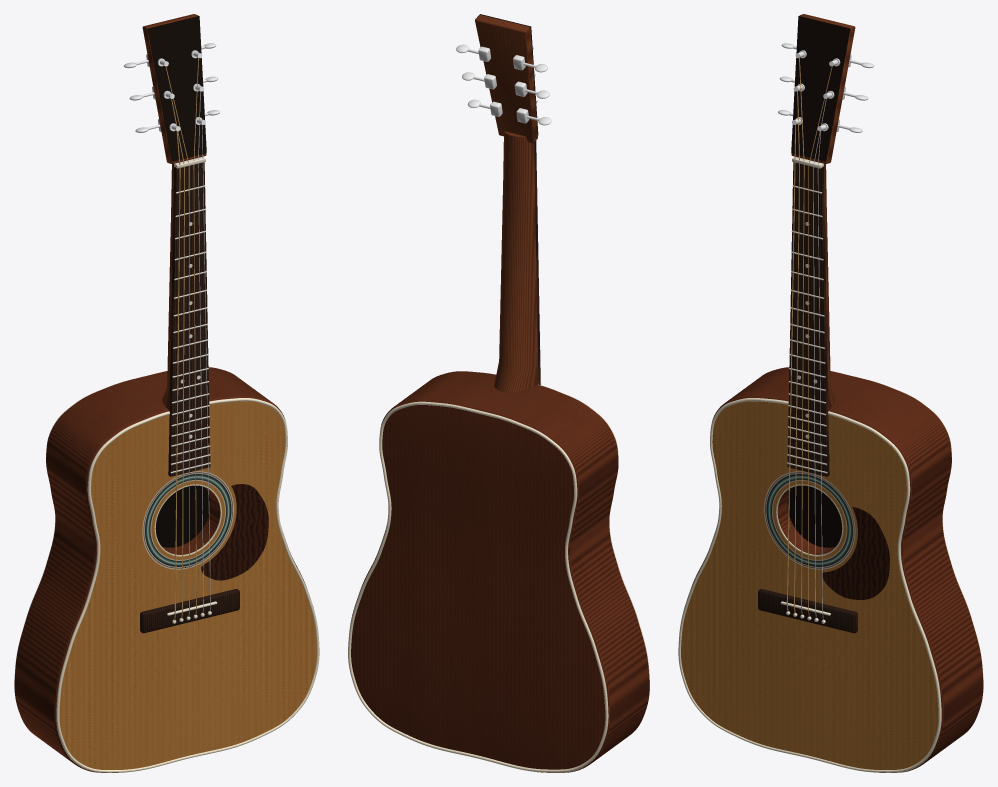
File: violao.glb
3 renders of one model, left to right at view 1: azimuth 30°, elevation 25°; view 2: azimuth 150°, elevation 25°; view 3: azimuth 330°, elevation 25°, orthographic.
Visible parts, largest first — view 1: Tampo, Corpo, Escala, MascaraMao, Friso, Escudo, Bronze, Fundo, Cavalete, Trastes, Aco, Cromo (+2 smaller); view 2: Corpo, Braco, Mao, Friso, Cromo, Escala; view 3: Tampo, Corpo, Escala, MascaraMao, Friso, Escudo, Bronze, Fundo, Cavalete, Trastes, Aco, Cromo (+2 smaller).
Boxes of the visible parts, x1,y1,x2,y2 form: Tampo: (59,401,316,769); Corpo: (14,367,313,772); Escala: (168,162,210,476); MascaraMao: (147,16,206,161); Friso: (14,378,319,772); Escudo: (201,484,268,580); Bronze: (165,58,198,620); Fundo: (155,485,210,547); Cavalete: (140,589,239,633); Trastes: (170,185,210,473); Aco: (198,91,210,612); Cromo: (124,43,219,132); Corpo: (351,371,649,772); Braco: (494,131,538,392); Mao: (475,14,537,143); Friso: (348,373,649,772); Cromo: (456,44,551,125); Escala: (534,141,540,384); Tampo: (681,401,938,769); Corpo: (684,367,983,772); Escala: (787,162,829,476); MascaraMao: (791,16,850,161); Friso: (678,378,983,772); Escudo: (822,507,889,599); Bronze: (786,58,832,616); Fundo: (787,485,842,547); Cavalete: (758,589,857,633); Trastes: (787,185,827,473); Aco: (813,99,826,620); Cromo: (778,43,873,132).
Size of the model in its own units: 0.4044 by 1.06 by 0.1268.
Materials: 16 (7 with a texture image).
